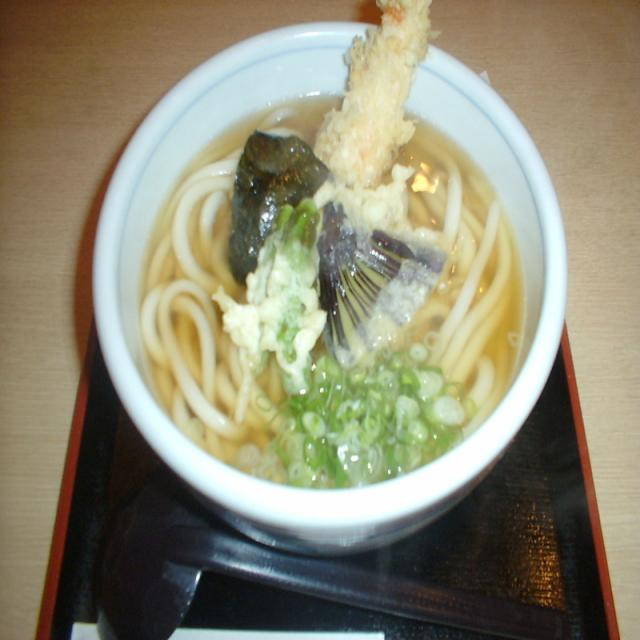面条主食: (123, 67, 527, 510)
